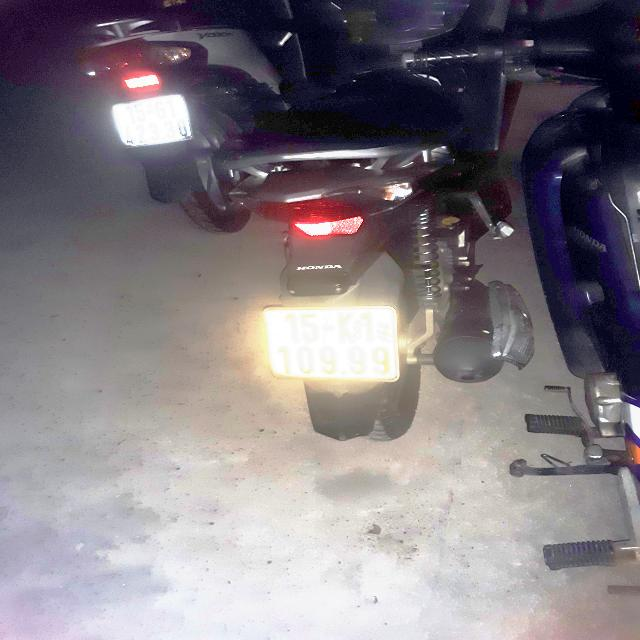license_plate: (256, 301, 411, 389), (108, 92, 202, 154)
